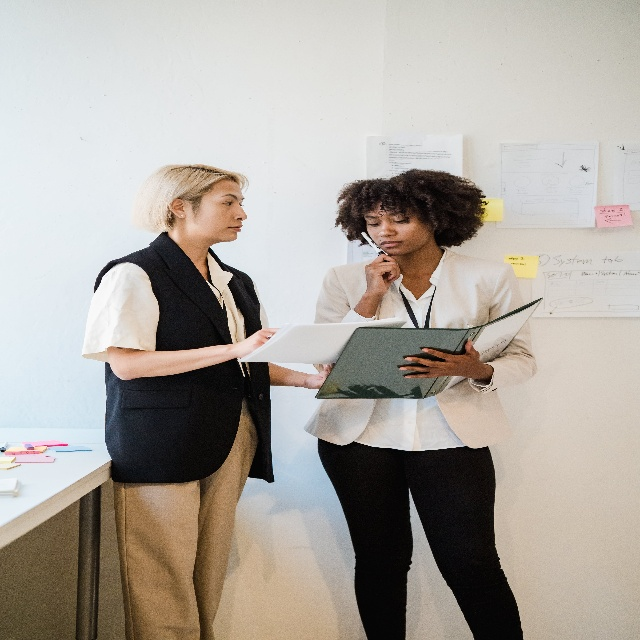Sin_guantes: (399, 340, 480, 379), (364, 255, 401, 301), (238, 327, 279, 358), (303, 362, 334, 390)
